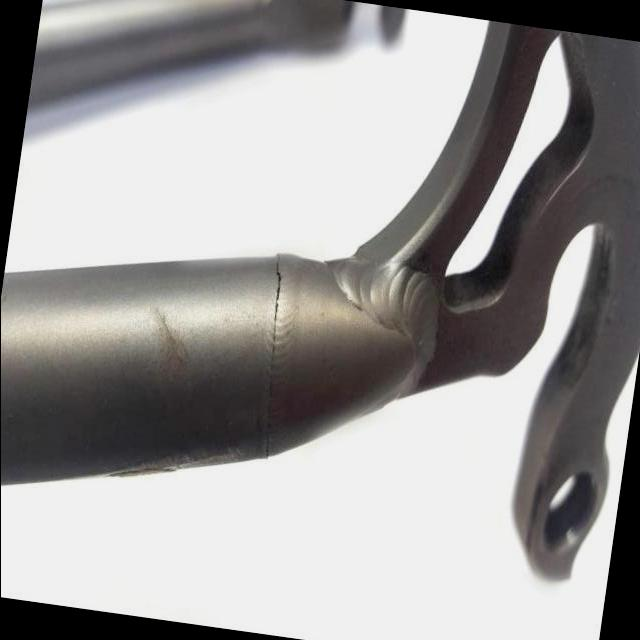defect: (264, 250, 281, 463)
